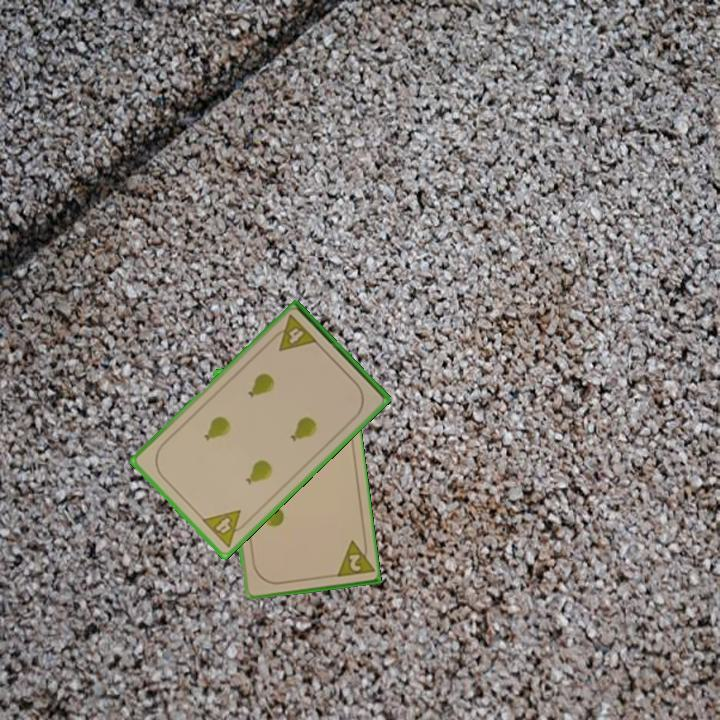2p: (345, 550, 364, 574)
4p: (198, 506, 253, 550), (267, 311, 320, 354)
